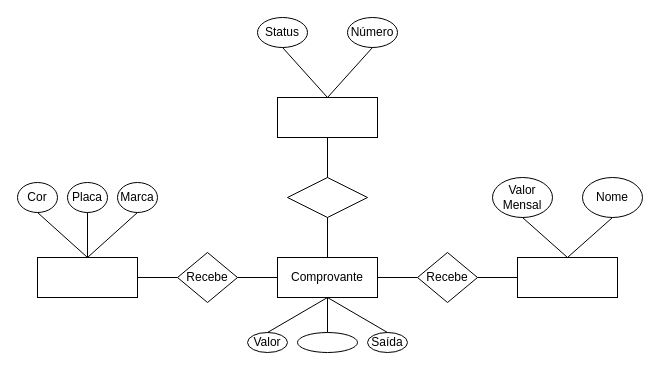
Image size: 660x370. Some labels were removed from this diagram. Each missing label, with the centre of its shape:
Cliente Avulso: [87,277]
Cliente Mensalista: [567,277]
Entrada: [327,342]
Refere-se: [327,197]
Vaga: [327,117]
